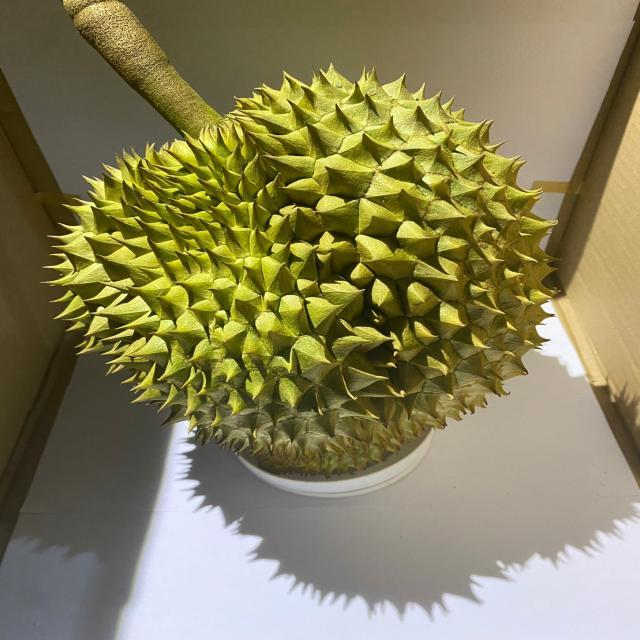immature: (38, 60, 556, 478)
